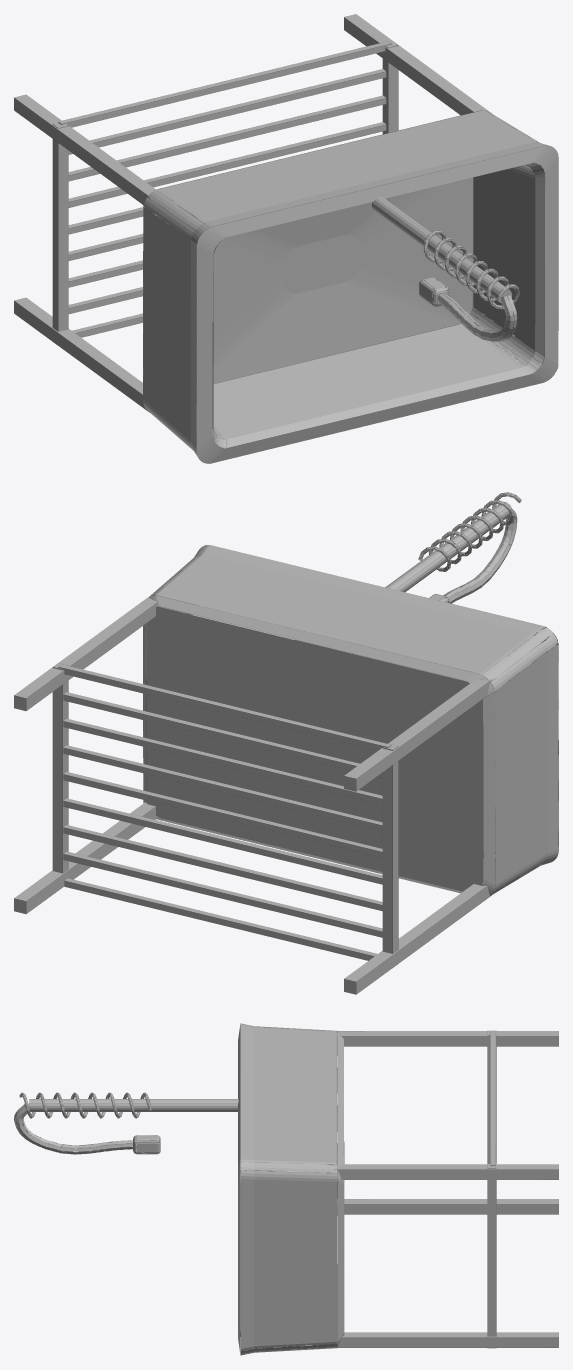
Rendered from pz_sink_large_industrial.obj.
The picture shows the model from 3 angles, top to bottom: view 1: azimuth 30°, elevation 25°; view 2: azimuth 150°, elevation 25°; view 3: azimuth 270°, elevation 25°; orthographic projection. The views are drawn at different scales.
Parts seen in each view (by area): view 1: pz_sink_large_industrial_|_deep_open_utility_basin_|_FULL_COUNTE, pz_sink_large_industrial_|_steel_leg.001, pz_sink_large_industrial_|_lower_rack_slat.008, pz_sink_large_industrial_|_lower_rack_side, pz_sink_large_industrial_|_steel_leg, pz_sink_large_industrial_|_steel_leg.003, pz_sink_large_industrial_|_lower_rack_slat.007, pz_sink_large_industrial_|_lower_rack_slat.006, pz_sink_large_industrial_|_lower_rack_slat.005, pz_sink_large_industrial_|_sprayer_post, pz_sink_large_industrial_|_EDITABLE_coiled_sprayer_hose, pz_sink_large_industrial_|_EDITABLE_bent_spray_neck (+7 smaller); view 2: pz_sink_large_industrial_|_deep_open_utility_basin_|_FULL_COUNTE, pz_sink_large_industrial_|_steel_leg.001, pz_sink_large_industrial_|_steel_leg, pz_sink_large_industrial_|_steel_leg.003, pz_sink_large_industrial_|_lower_rack_slat.008, pz_sink_large_industrial_|_lower_rack_side, pz_sink_large_industrial_|_lower_rack_slat.001, pz_sink_large_industrial_|_lower_rack_slat.002, pz_sink_large_industrial_|_lower_rack_slat.005, pz_sink_large_industrial_|_lower_rack_slat.003, pz_sink_large_industrial_|_lower_rack_slat.004, pz_sink_large_industrial_|_lower_rack_slat.006 (+7 smaller); view 3: pz_sink_large_industrial_|_deep_open_utility_basin_|_FULL_COUNTE, pz_sink_large_industrial_|_steel_leg.003, pz_sink_large_industrial_|_steel_leg.002, pz_sink_large_industrial_|_steel_leg.001, pz_sink_large_industrial_|_steel_leg, pz_sink_large_industrial_|_sprayer_post, pz_sink_large_industrial_|_lower_rack_side.001, pz_sink_large_industrial_|_EDITABLE_bent_spray_neck, pz_sink_large_industrial_|_EDITABLE_coiled_sprayer_hose, pz_sink_large_industrial_|_lower_rack_slat.008, pz_sink_large_industrial_|_lower_rack_side, pz_sink_large_industrial_|_spray_nozzle.
Part boxes in pixels (x1,y1,x2,y2): pz_sink_large_industrial_|_deep_open_utility_basin_|_FULL_COUNTE: [143, 110, 558, 463]; pz_sink_large_industrial_|_steel_leg.001: [14, 94, 155, 204]; pz_sink_large_industrial_|_lower_rack_slat.008: [58, 41, 391, 127]; pz_sink_large_industrial_|_lower_rack_side: [52, 122, 68, 331]; pz_sink_large_industrial_|_steel_leg: [14, 297, 149, 412]; pz_sink_large_industrial_|_steel_leg.003: [344, 14, 491, 115]; pz_sink_large_industrial_|_lower_rack_slat.007: [68, 69, 386, 154]; pz_sink_large_industrial_|_lower_rack_slat.006: [68, 95, 386, 181]; pz_sink_large_industrial_|_lower_rack_slat.005: [68, 122, 386, 207]; pz_sink_large_industrial_|_sprayer_post: [371, 196, 512, 303]; pz_sink_large_industrial_|_EDITABLE_coiled_sprayer_hose: [423, 230, 519, 309]; pz_sink_large_industrial_|_EDITABLE_bent_spray_neck: [437, 293, 517, 341]; pz_sink_large_industrial_|_deep_open_utility_basin_|_FULL_COUNTE: [143, 545, 558, 895]; pz_sink_large_industrial_|_steel_leg.001: [344, 677, 492, 791]; pz_sink_large_industrial_|_steel_leg: [344, 880, 491, 994]; pz_sink_large_industrial_|_steel_leg.003: [14, 596, 162, 710]; pz_sink_large_industrial_|_lower_rack_slat.008: [58, 664, 391, 750]; pz_sink_large_industrial_|_lower_rack_side: [382, 743, 398, 953]; pz_sink_large_industrial_|_lower_rack_slat.001: [63, 851, 382, 937]; pz_sink_large_industrial_|_lower_rack_slat.002: [63, 825, 382, 911]; pz_sink_large_industrial_|_lower_rack_slat.005: [63, 745, 382, 831]; pz_sink_large_industrial_|_lower_rack_slat.003: [63, 798, 382, 884]; pz_sink_large_industrial_|_lower_rack_slat.004: [63, 772, 382, 857]; pz_sink_large_industrial_|_lower_rack_slat.006: [63, 718, 382, 804]; pz_sink_large_industrial_|_deep_open_utility_basin_|_FULL_COUNTE: [238, 1023, 344, 1355]; pz_sink_large_industrial_|_steel_leg.003: [334, 1164, 558, 1179]; pz_sink_large_industrial_|_steel_leg.002: [334, 1332, 558, 1347]; pz_sink_large_industrial_|_steel_leg.001: [337, 1031, 558, 1046]; pz_sink_large_industrial_|_steel_leg: [337, 1199, 558, 1214]; pz_sink_large_industrial_|_sprayer_post: [29, 1099, 238, 1111]; pz_sink_large_industrial_|_lower_rack_side.001: [487, 1163, 496, 1348]; pz_sink_large_industrial_|_EDITABLE_bent_spray_neck: [14, 1103, 132, 1154]; pz_sink_large_industrial_|_EDITABLE_coiled_sprayer_hose: [19, 1092, 151, 1118]; pz_sink_large_industrial_|_lower_rack_slat.008: [490, 1031, 495, 1165]; pz_sink_large_industrial_|_lower_rack_side: [487, 1030, 496, 1163]; pz_sink_large_industrial_|_spray_nozzle: [133, 1135, 160, 1154].
Size of the model in its own units: 1 by 0.625 by 1.57.
Materials: 1 (1 with a texture image).
